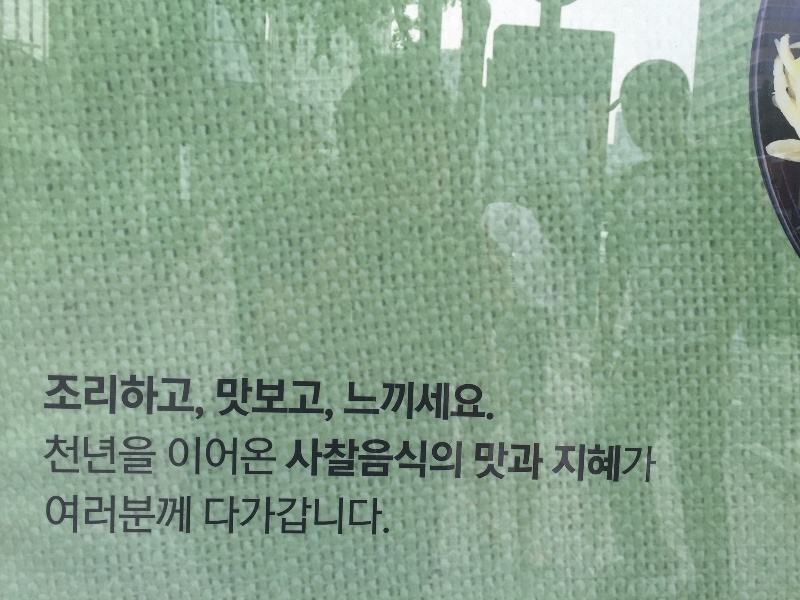text: (49, 375, 64, 422), (65, 375, 80, 422), (81, 375, 96, 422), (97, 375, 112, 422), (113, 375, 128, 422), (129, 375, 144, 422), (145, 375, 160, 422), (161, 375, 176, 422), (177, 375, 192, 422), (193, 375, 208, 422), (225, 380, 240, 422), (241, 380, 256, 422), (257, 380, 272, 422), (273, 380, 288, 422), (289, 380, 304, 422), (305, 380, 320, 422), (321, 380, 336, 422), (49, 435, 64, 477), (65, 435, 80, 477), (81, 435, 96, 477), (97, 435, 112, 477), (113, 435, 128, 477), (129, 435, 144, 477), (49, 493, 64, 534), (65, 493, 80, 534), (81, 493, 96, 534), (97, 493, 112, 534), (113, 493, 128, 534), (129, 493, 144, 534), (145, 493, 160, 534), (161, 493, 176, 534), (289, 438, 304, 479), (305, 438, 320, 479), (321, 438, 336, 479), (337, 438, 352, 479), (353, 438, 368, 479), (369, 438, 384, 479), (385, 438, 400, 479), (401, 438, 416, 479), (417, 438, 432, 479), (433, 438, 448, 479), (449, 438, 464, 479), (481, 443, 496, 483), (497, 443, 512, 483), (513, 443, 528, 483), (529, 443, 544, 483), (641, 447, 657, 484), (353, 382, 368, 421), (369, 382, 384, 421), (385, 382, 400, 421), (401, 382, 416, 421), (417, 382, 432, 421), (433, 382, 448, 421), (449, 382, 464, 421), (465, 382, 480, 421), (481, 382, 496, 421), (177, 438, 192, 477), (193, 438, 208, 477), (209, 438, 224, 477), (225, 438, 240, 477), (241, 438, 256, 477), (257, 438, 272, 477), (177, 493, 191, 534), (561, 447, 576, 484), (577, 447, 592, 484), (593, 447, 608, 484), (609, 447, 624, 484), (625, 447, 640, 484), (209, 498, 224, 535), (225, 498, 240, 535), (241, 498, 256, 535), (257, 498, 272, 535), (273, 498, 288, 535), (289, 498, 304, 535), (305, 498, 320, 535), (321, 498, 336, 535), (337, 498, 352, 535), (353, 498, 368, 535), (369, 498, 384, 535), (145, 435, 157, 477), (217, 380, 224, 422), (170, 438, 176, 477), (475, 443, 480, 483), (273, 438, 278, 477), (555, 447, 560, 484), (385, 498, 390, 535), (45, 435, 48, 477), (46, 375, 48, 422), (46, 493, 48, 534), (350, 382, 352, 421), (206, 498, 208, 535)
